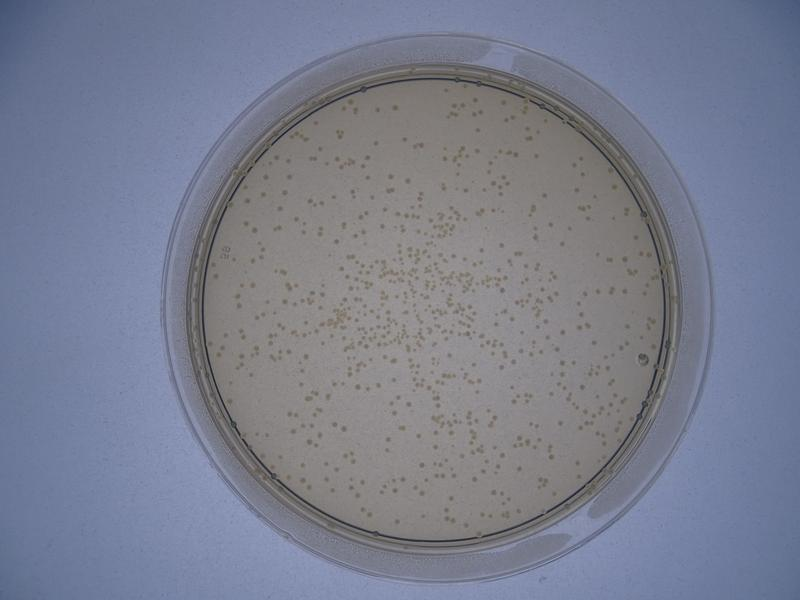colony: (539, 189, 554, 200), (404, 400, 416, 411), (302, 351, 311, 363), (495, 240, 505, 250), (590, 339, 600, 349), (557, 238, 566, 249), (620, 253, 631, 262), (370, 137, 378, 149), (360, 173, 372, 181), (399, 134, 408, 144), (274, 203, 283, 213), (414, 430, 422, 440), (391, 101, 398, 111), (354, 382, 361, 392), (226, 396, 233, 405), (330, 487, 338, 494), (331, 239, 338, 245)
